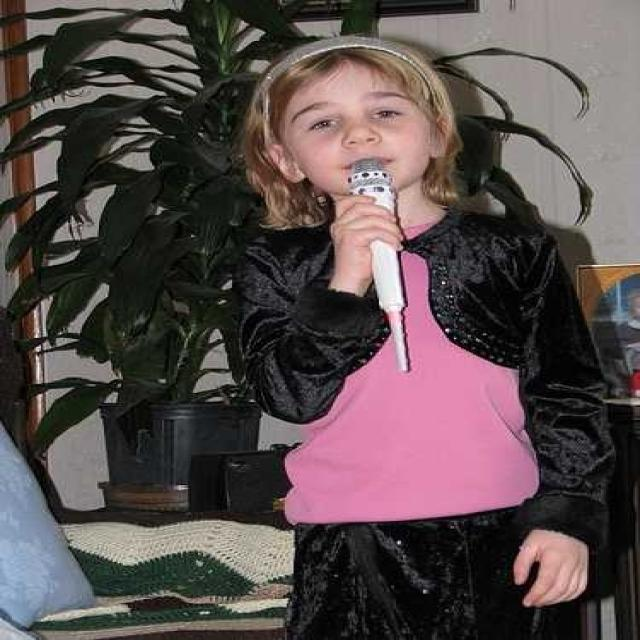microphone: (345, 157, 411, 365), (332, 143, 432, 172)
